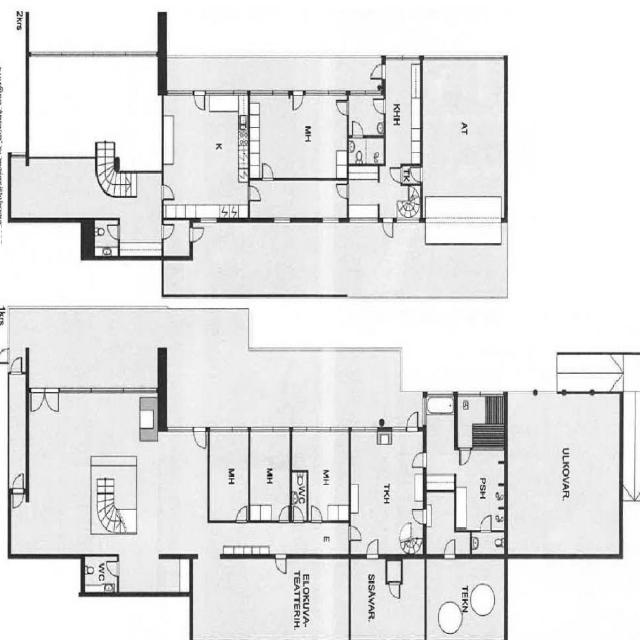door: (31, 388, 45, 412), (45, 388, 59, 412), (357, 409, 370, 432), (194, 427, 206, 449), (193, 90, 205, 111), (407, 411, 418, 432), (412, 509, 427, 524), (371, 64, 386, 79), (275, 554, 286, 574), (444, 539, 455, 559), (367, 538, 378, 558), (293, 90, 304, 110), (13, 488, 23, 509), (412, 453, 427, 467), (13, 474, 23, 494), (236, 505, 247, 523), (388, 581, 399, 599), (349, 525, 362, 540), (336, 100, 349, 115), (410, 167, 423, 182), (383, 218, 393, 237), (460, 448, 471, 465), (352, 121, 363, 138), (106, 562, 119, 576), (190, 228, 203, 242), (162, 224, 174, 239), (481, 516, 492, 532), (312, 506, 322, 523), (263, 163, 273, 180), (162, 185, 174, 199), (108, 225, 120, 239), (248, 186, 260, 200), (336, 184, 348, 198), (374, 99, 386, 113), (390, 168, 402, 182), (294, 508, 303, 523), (279, 508, 288, 523)
